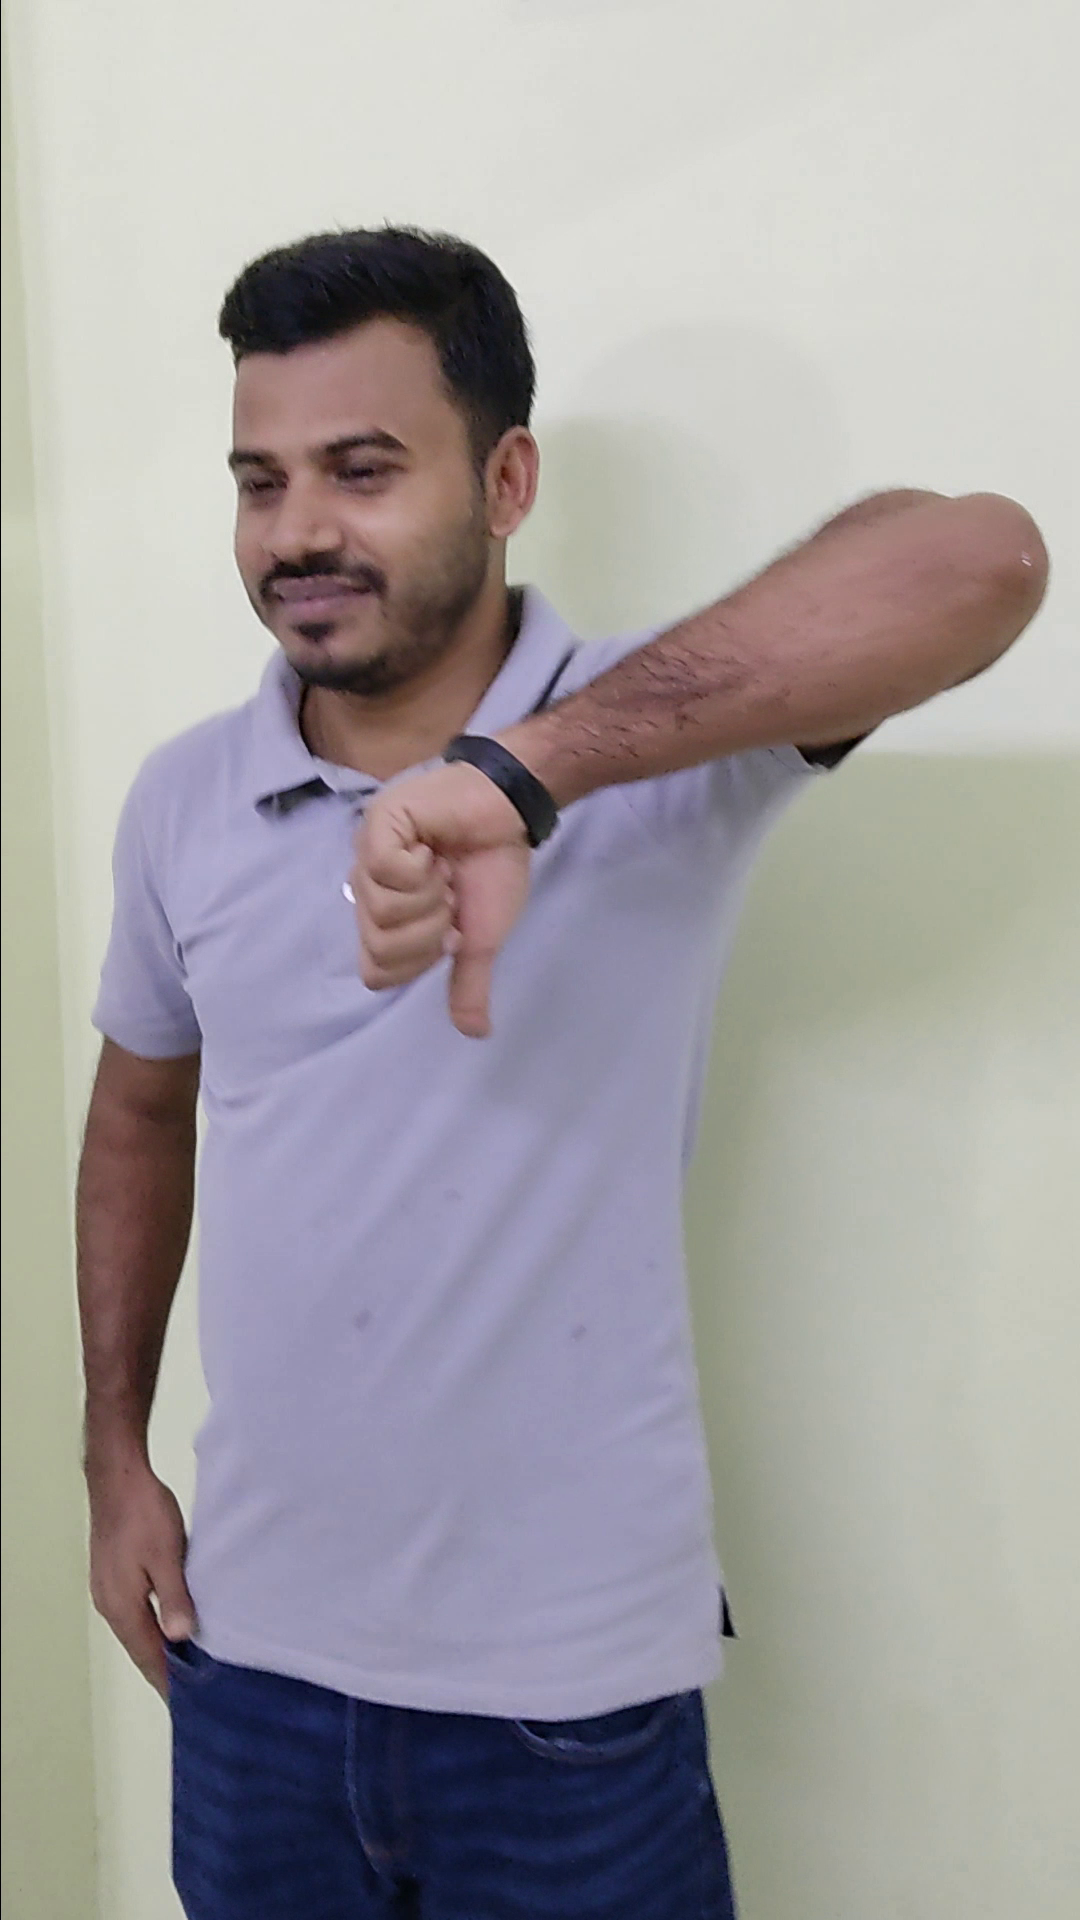Dislike: (323, 725, 551, 1054)
None: (61, 1420, 208, 1713)
